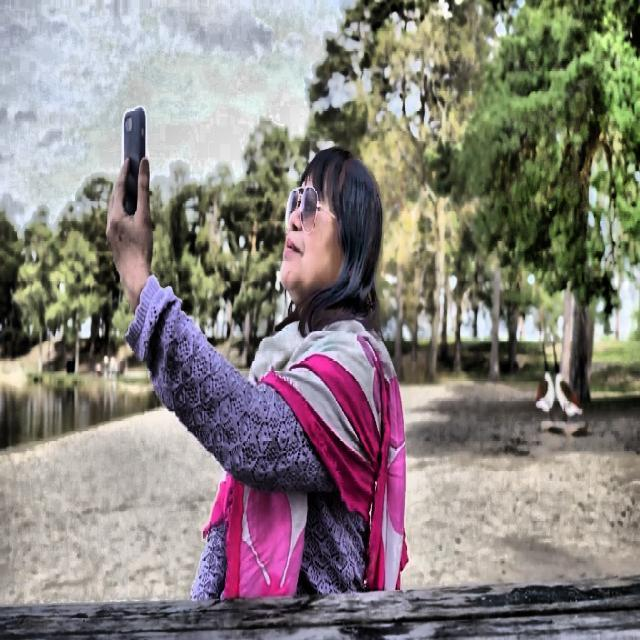Phone: (123, 108, 147, 219)
